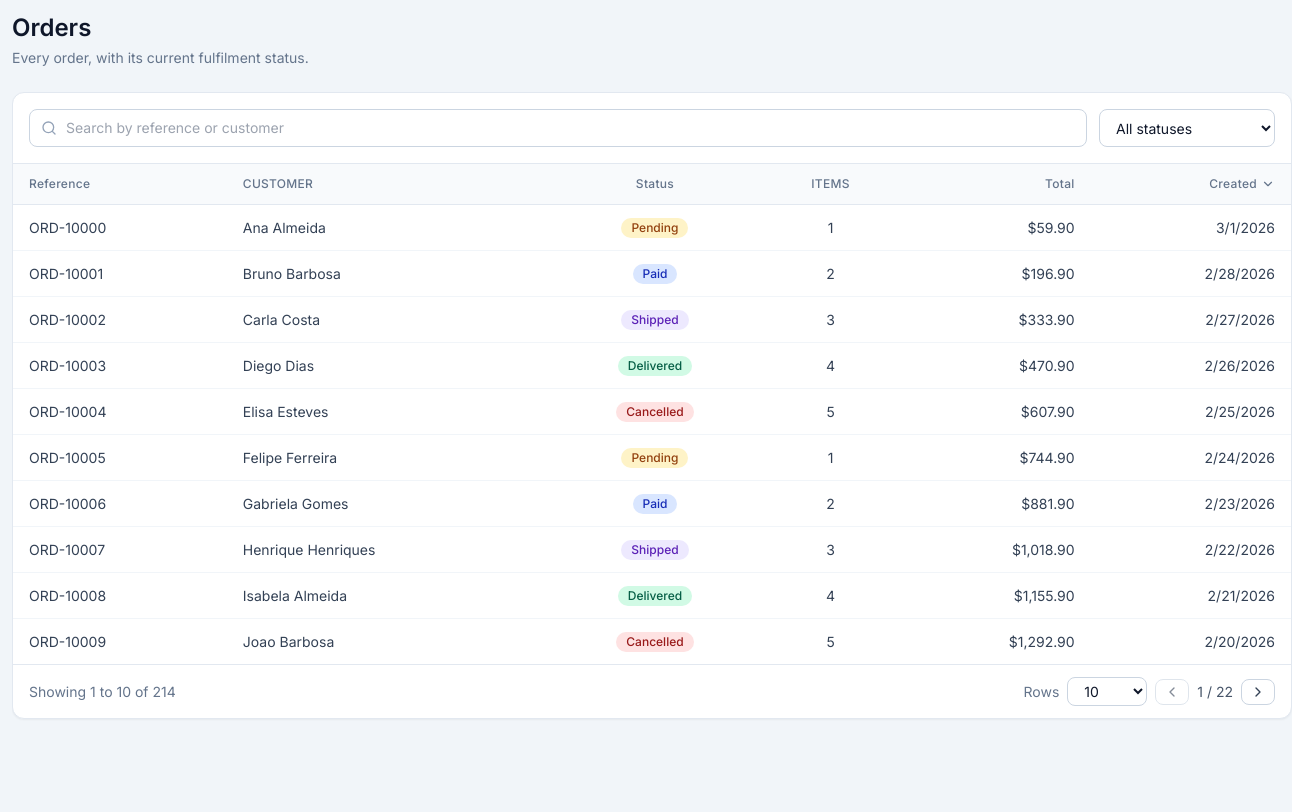
Test case: OrdersPage › shows an empty state when nothing matches
The image size is (1292, 812).
Type "nothing-matches-this" into the field with placeholder "Search by reference or customer" at (558, 128), box [29,109,1087,147]
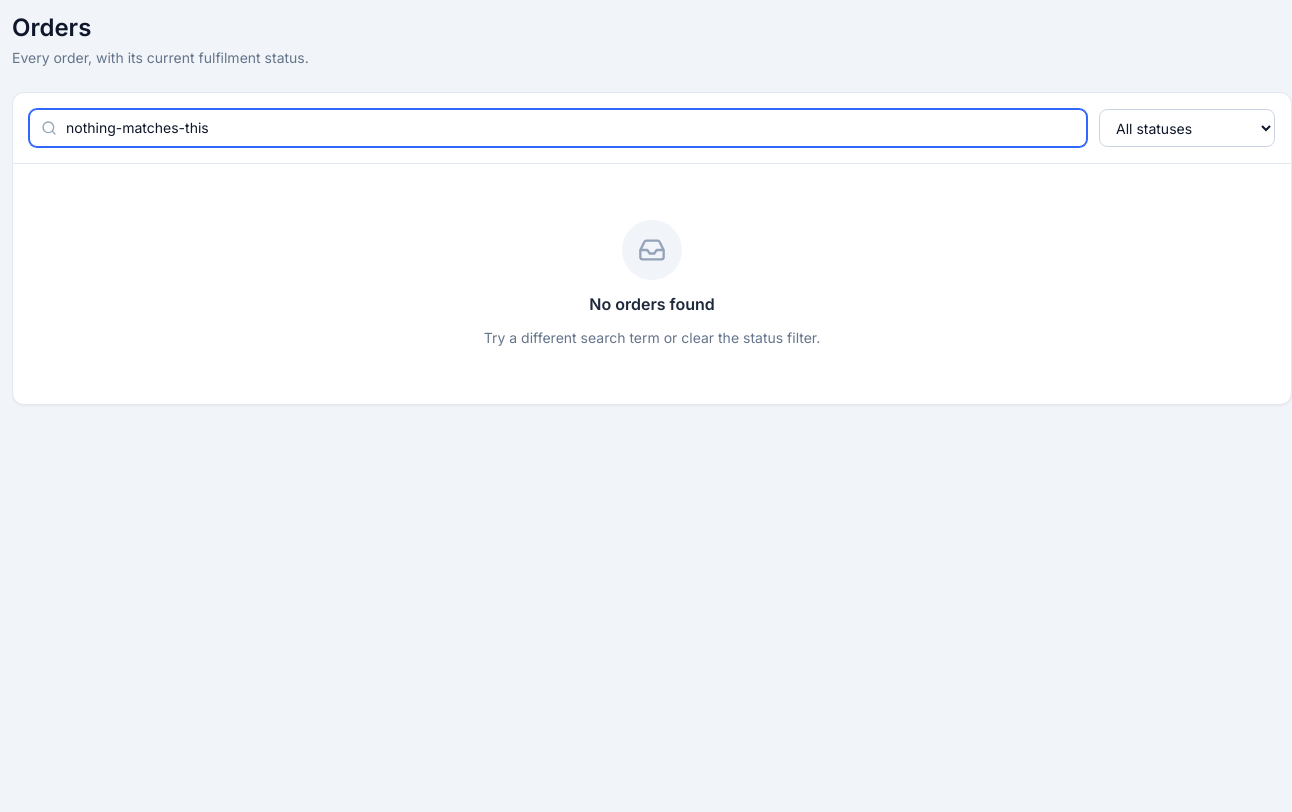
Expected: the heading "No orders found" is shown, [589,292,715,316]
Expected: the table is gone
